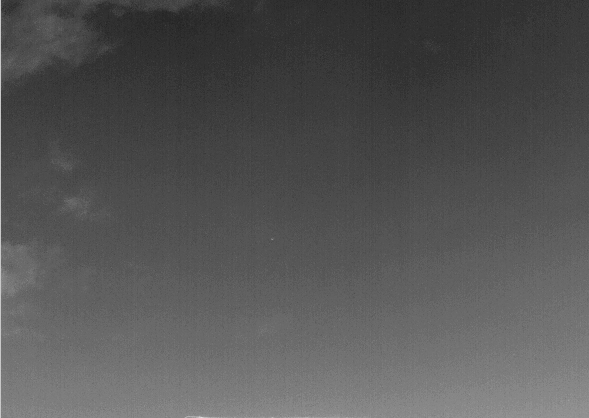dim target: (270, 237, 275, 242)
